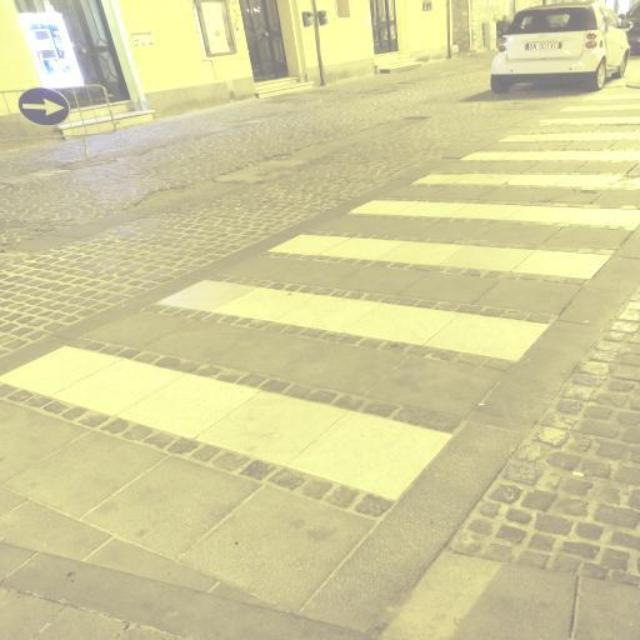sidewalk: (6, 108, 635, 512)
